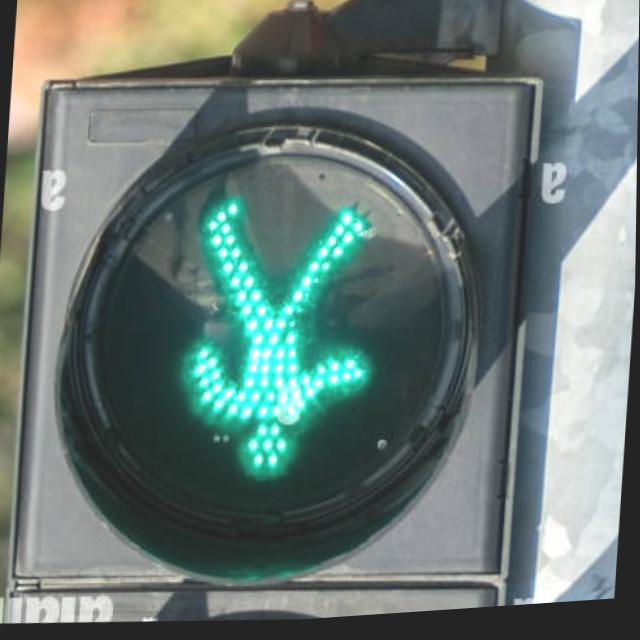green_light: (168, 180, 384, 517)
